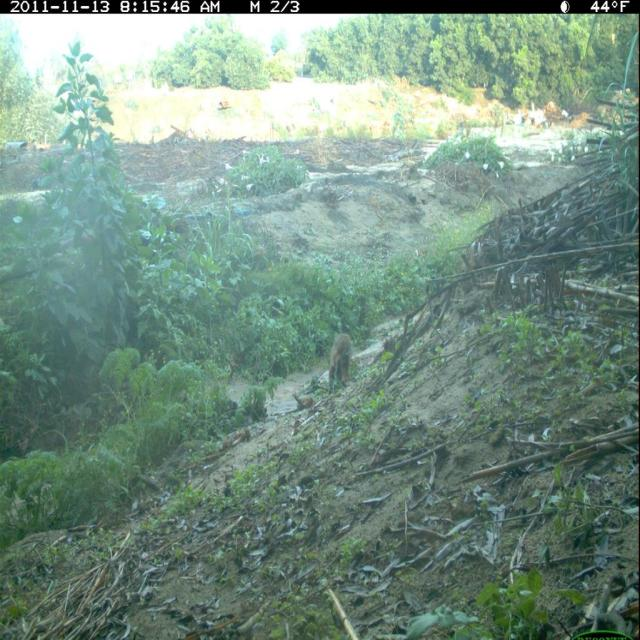bobcat: (324, 325, 356, 391)
